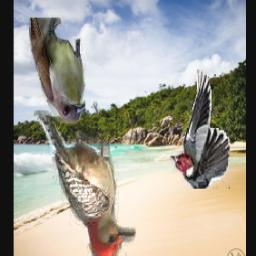Cuckoo: (29, 18, 85, 124)
Woodpecker: (34, 111, 137, 256), (172, 70, 231, 189)
